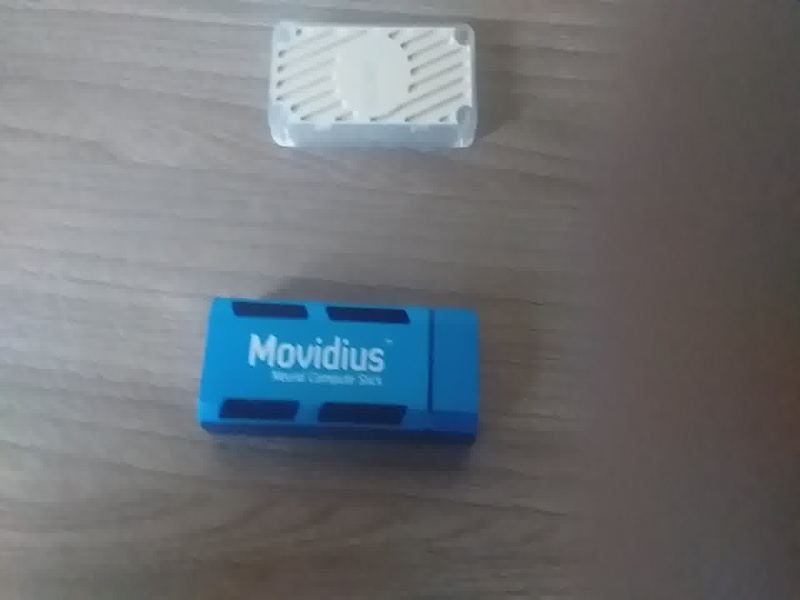coral: (262, 13, 486, 163)
movidius: (193, 288, 493, 447)
